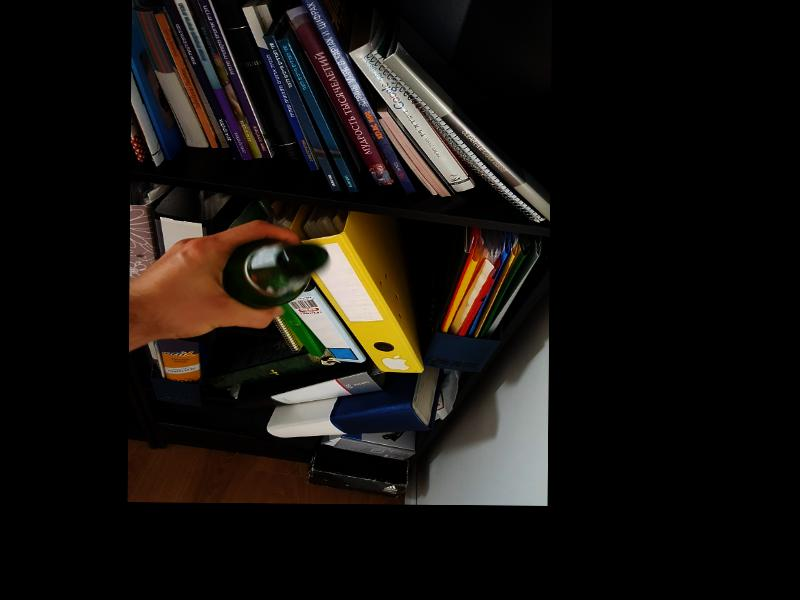Beer: (222, 239, 327, 308)
